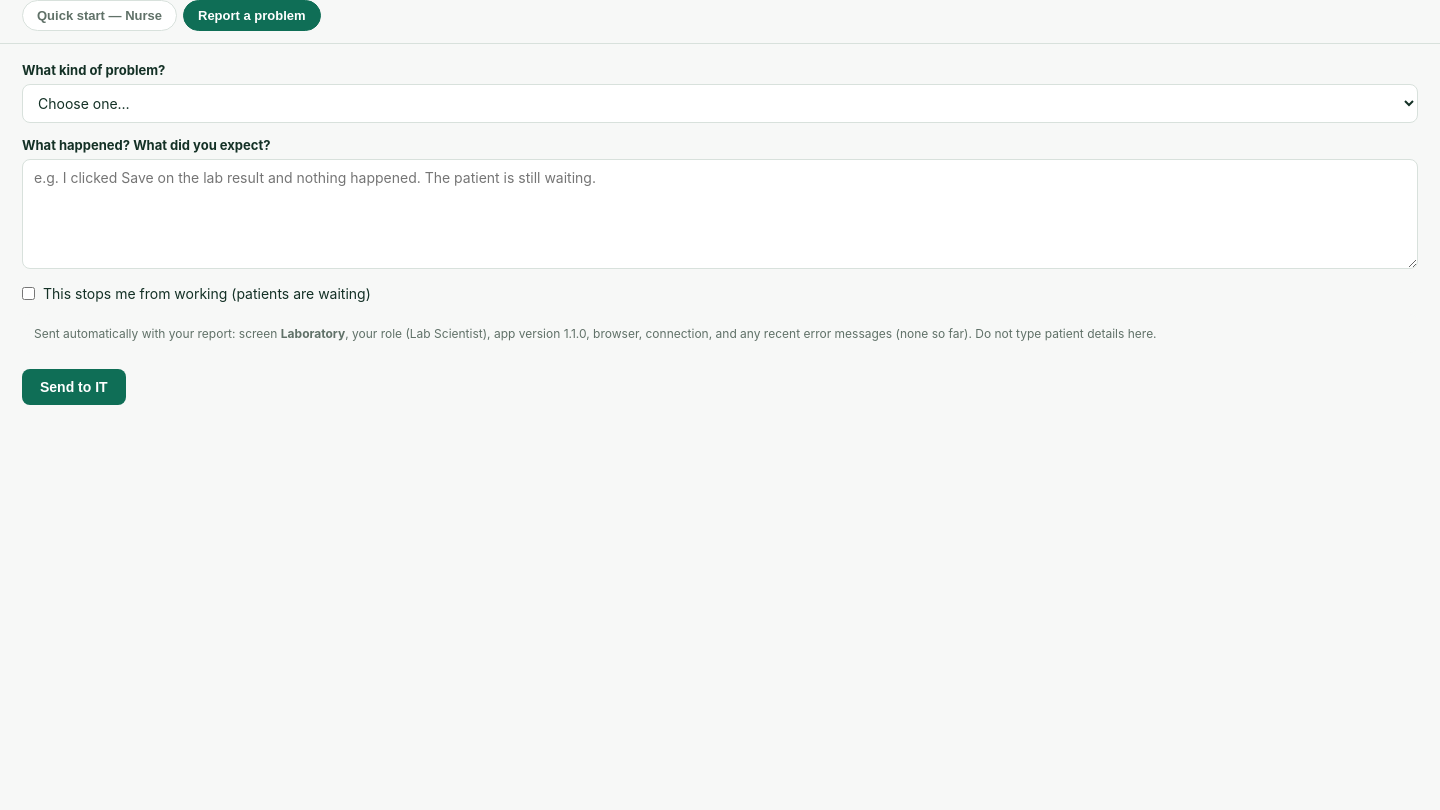
Test: report a problem › offers the text to copy when the report cannot be sent
This screenshot has width=1440, height=810.
Select "Something shows an error or will not save" in the dropdown labelled "What kind of problem?". click: [720, 104]
box: [22,84,1418,123]
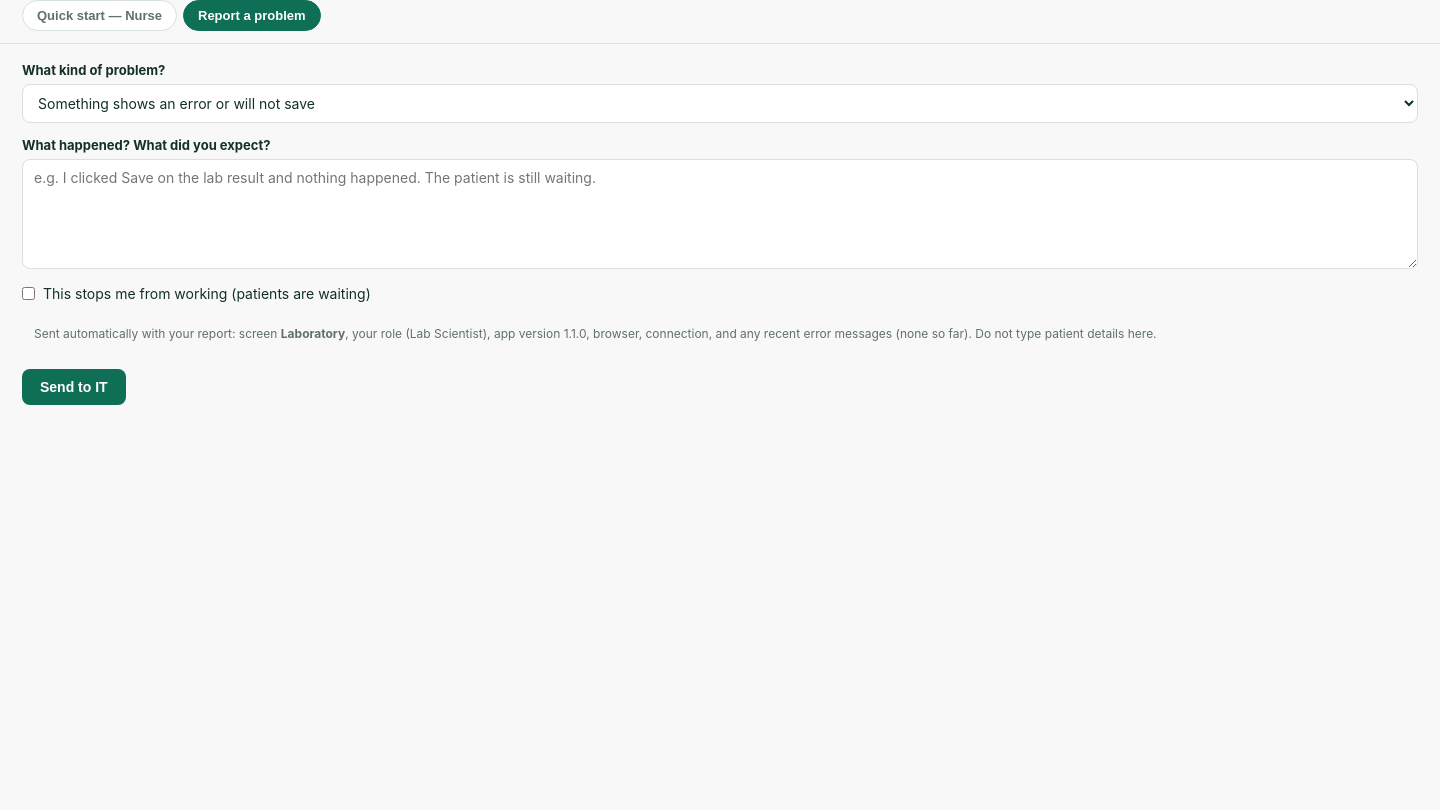
Replace the text in the text box labelled "What happened? What did you expect?" with "Cannot save vitals". click: [720, 214]
box: [22,159,1418,269]
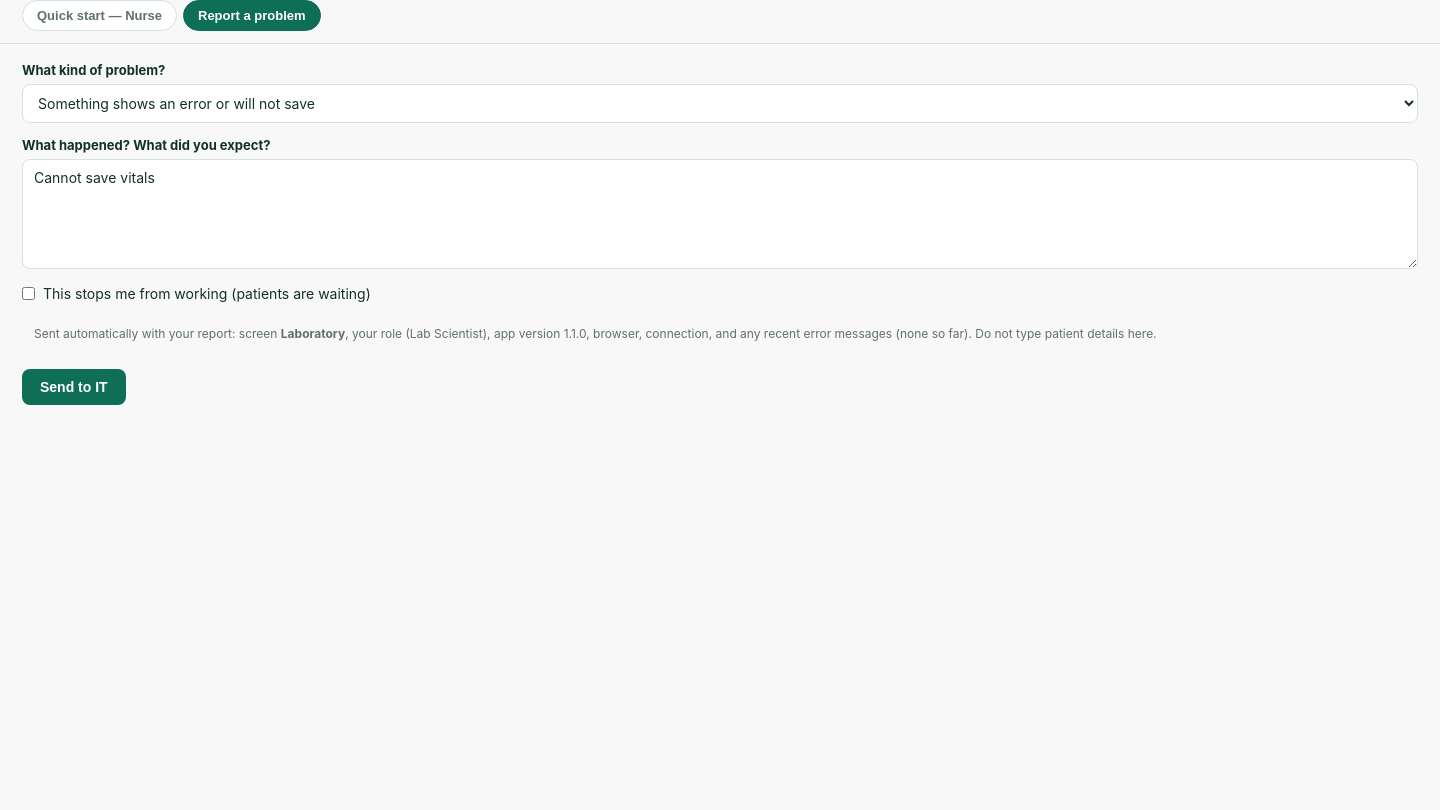
Click the button "Send to IT". click: [74, 387]
box: [22,369,126,405]
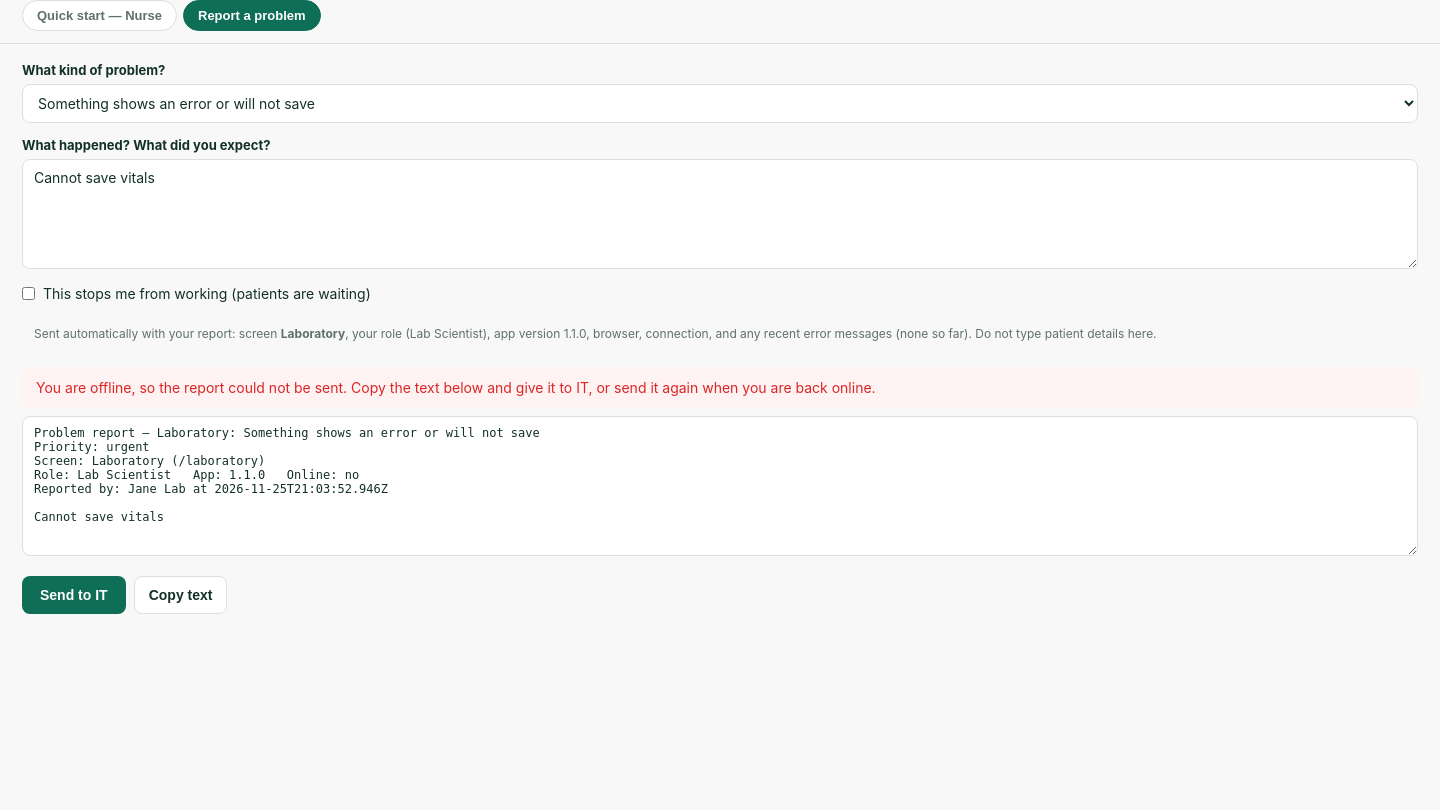
Check: the message shows "offline", box [36,379,876,396]
